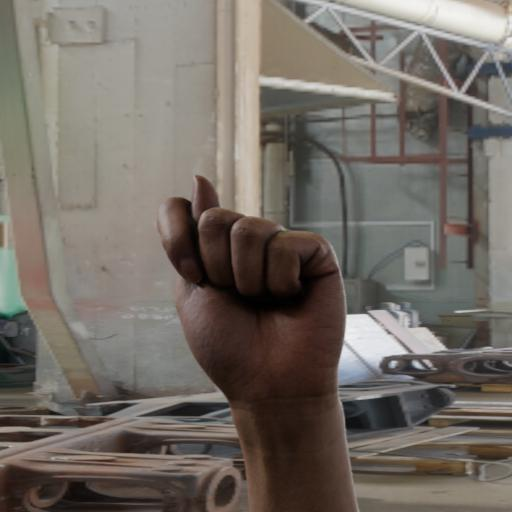T: (150, 166, 355, 410)
